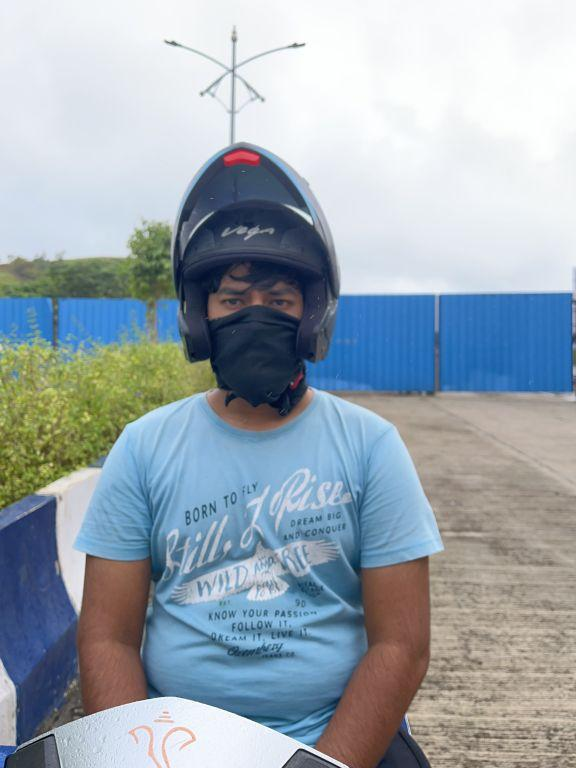helmet: (160, 134, 349, 398)
